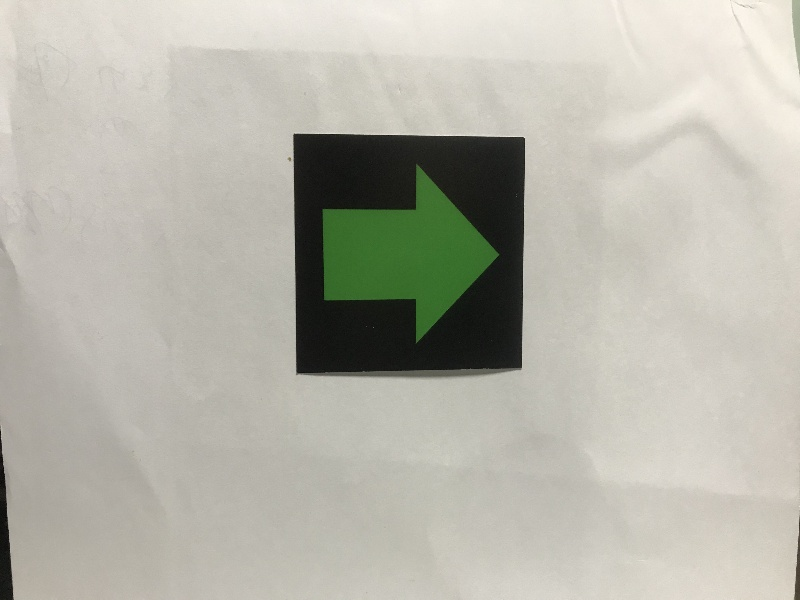RA-3: (300, 139, 518, 365)
